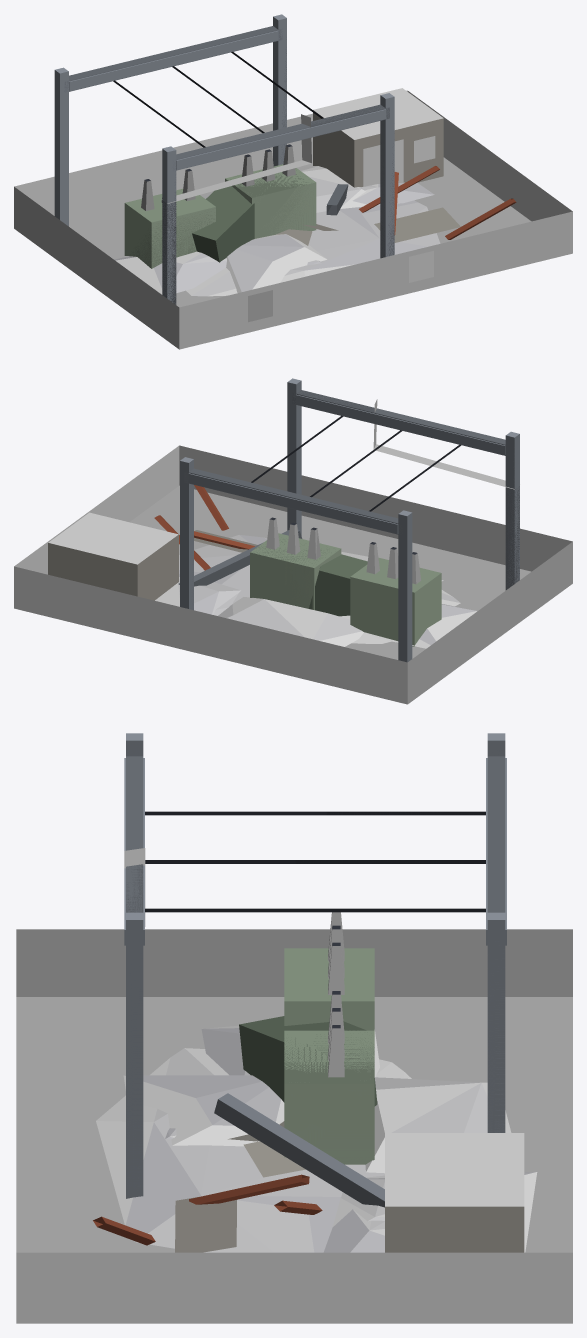
The model's file is bld_substation_a.glb.
3 renders of one model, top to bottom at view 1: azimuth 30°, elevation 25°; view 2: azimuth 150°, elevation 25°; view 3: azimuth 270°, elevation 25°, orthographic. The views are drawn at different scales.
Visible parts, largest first — view 1: damaged, rubble, chunk_10, chunk_00, chunk_05, chunk_07, chunk_06, chunk_09, chunk_02, chunk_04, intact, chunk_08 (+2 smaller); view 2: damaged, rubble, chunk_10, chunk_00, chunk_07, chunk_02, chunk_09, chunk_06, intact, chunk_04, chunk_08, chunk_05 (+2 smaller); view 3: damaged, rubble, chunk_10, chunk_00, chunk_05, intact, chunk_02, chunk_08, chunk_03, chunk_01, chunk_09.
Part boxes in pixels (<box>): damaged: <box>14,26,572,349</box>; rubble: <box>113,165,516,296</box>; chunk_10: <box>313,88,443,187</box>; chunk_00: <box>124,188,215,268</box>; chunk_05: <box>380,93,394,257</box>; chunk_07: <box>54,67,68,226</box>; chunk_06: <box>176,109,386,169</box>; chunk_09: <box>69,30,278,91</box>; chunk_02: <box>225,164,316,235</box>; chunk_04: <box>162,146,176,304</box>; intact: <box>114,66,389,302</box>; chunk_08: <box>273,14,286,166</box>; damaged: <box>14,390,572,704</box>; rubble: <box>154,485,476,648</box>; chunk_10: <box>48,512,178,600</box>; chunk_00: <box>350,557,441,646</box>; chunk_07: <box>398,510,412,662</box>; chunk_02: <box>250,533,341,610</box>; chunk_09: <box>188,473,398,533</box>; chunk_06: <box>296,394,505,455</box>; intact: <box>292,390,518,586</box>; chunk_04: <box>505,431,519,589</box>; chunk_08: <box>180,457,193,609</box>; chunk_05: <box>287,378,301,535</box>; damaged: <box>16,750,572,1323</box>; rubble: <box>93,1016,537,1252</box>; chunk_10: <box>385,1133,524,1252</box>; chunk_00: <box>284,948,374,1030</box>; chunk_05: <box>126,912,143,1198</box>; intact: <box>126,751,485,912</box>; chunk_02: <box>284,1030,374,1164</box>; chunk_08: <box>487,912,505,1132</box>; chunk_03: <box>328,991,344,1077</box>; chunk_01: <box>328,912,344,994</box>; chunk_09: <box>486,758,506,945</box>.
Bounding box in the file's own units: 22 × 9.23 × 16.07.
